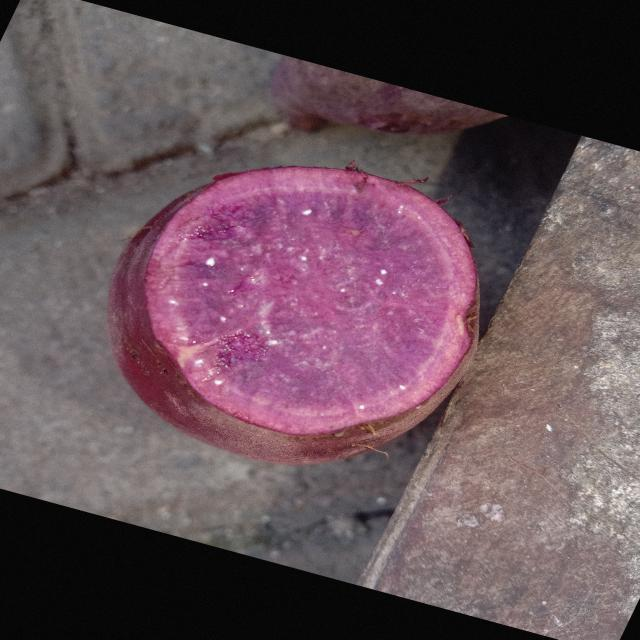Healthy Sweet Potato: (145, 166, 477, 435)
